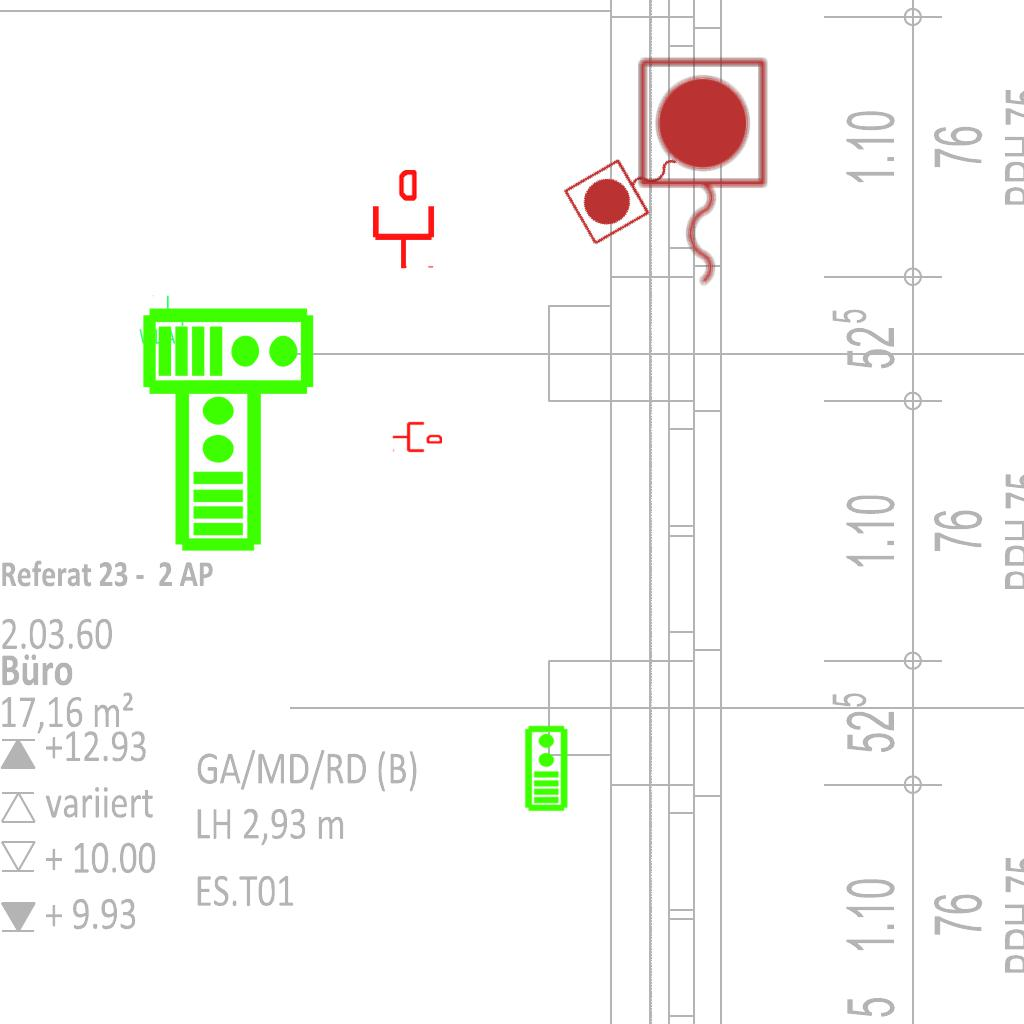Datenanschluss_einfach: (369, 170, 438, 270), (392, 420, 442, 454)
Gegensprechanlage_mit_Video: (169, 377, 264, 553), (141, 302, 317, 397), (522, 724, 569, 812)
WLAN: (137, 294, 189, 346)
Zugtaster: (629, 51, 773, 295), (558, 128, 700, 252)
